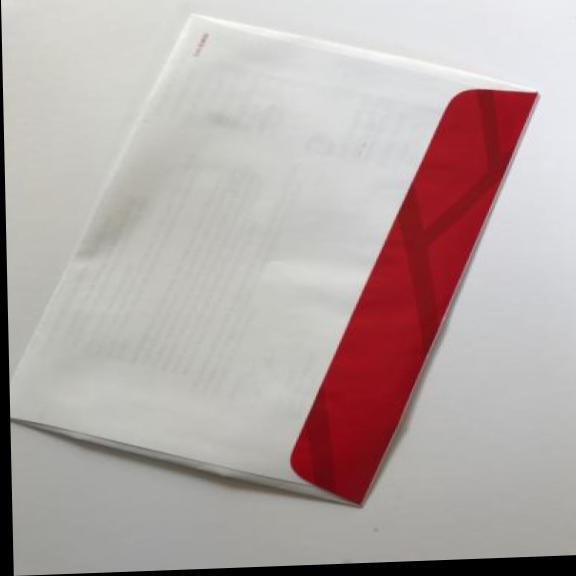Kertas: (0, 0, 556, 532)
